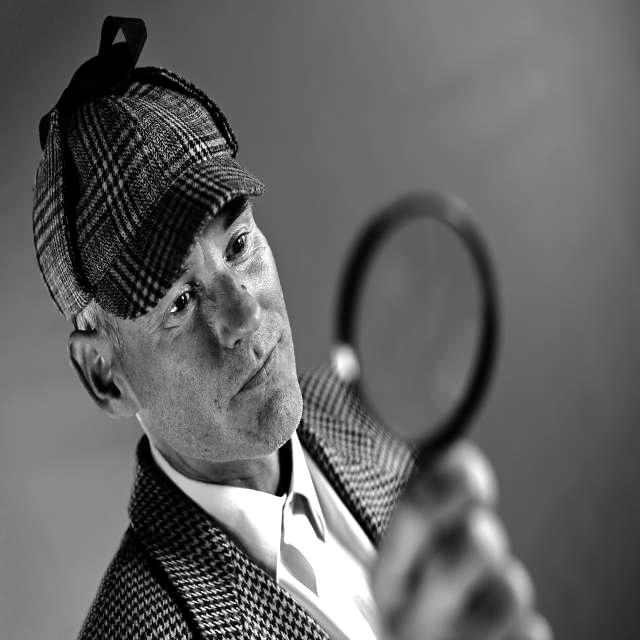no_hard_hat: (33, 16, 264, 320)
person: (33, 67, 552, 640)
